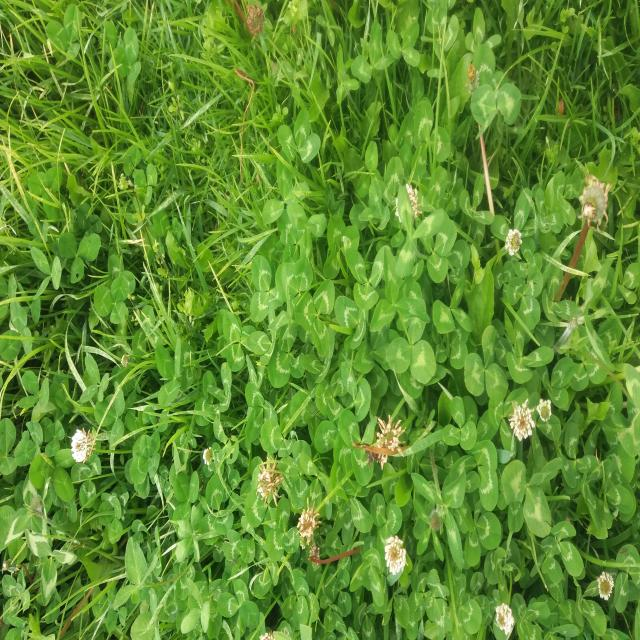Four Leaf Clover: (369, 246, 430, 331)
